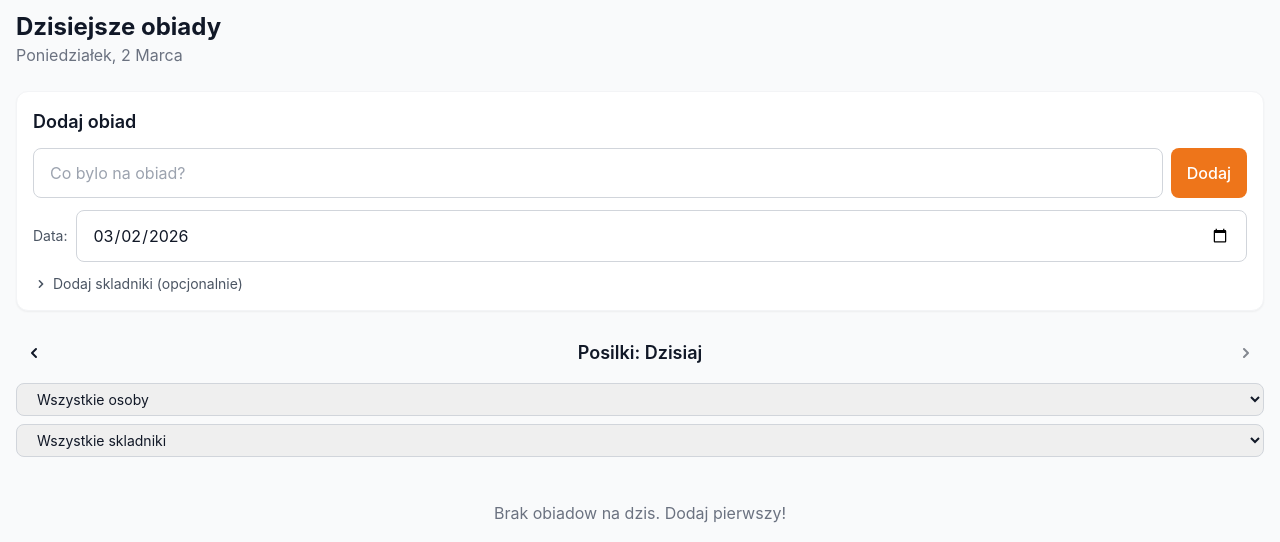
Test: HomePage › adds a new meal
In the dropdown with placeholder "Co bylo na obiad?": (598, 173) x1=33 y1=148 x2=1163 y2=198, type "Spaghetti"
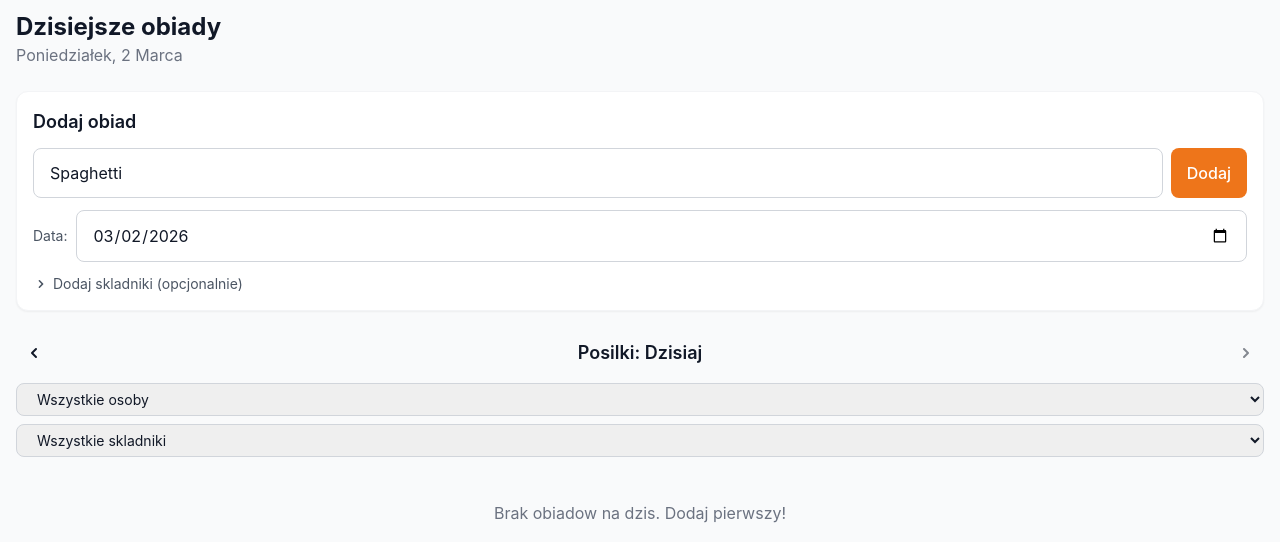
Click the button with aria-label "dodaj obiad": (1209, 173) x1=1171 y1=148 x2=1247 y2=198
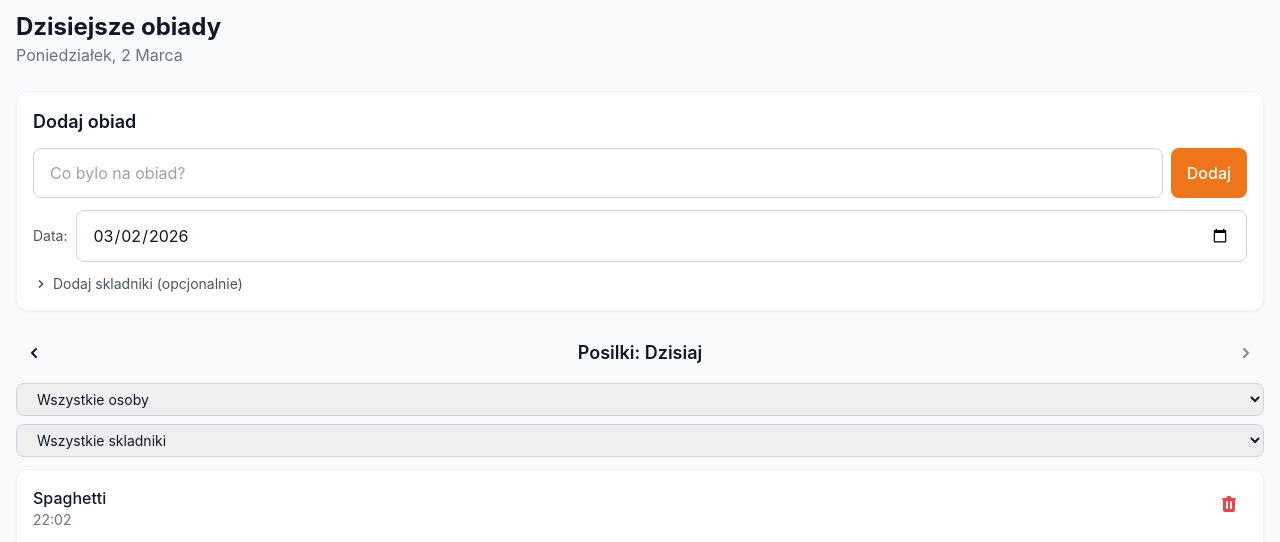
Result: the text "Spaghetti" is shown at x1=33 y1=486 x2=106 y2=510
